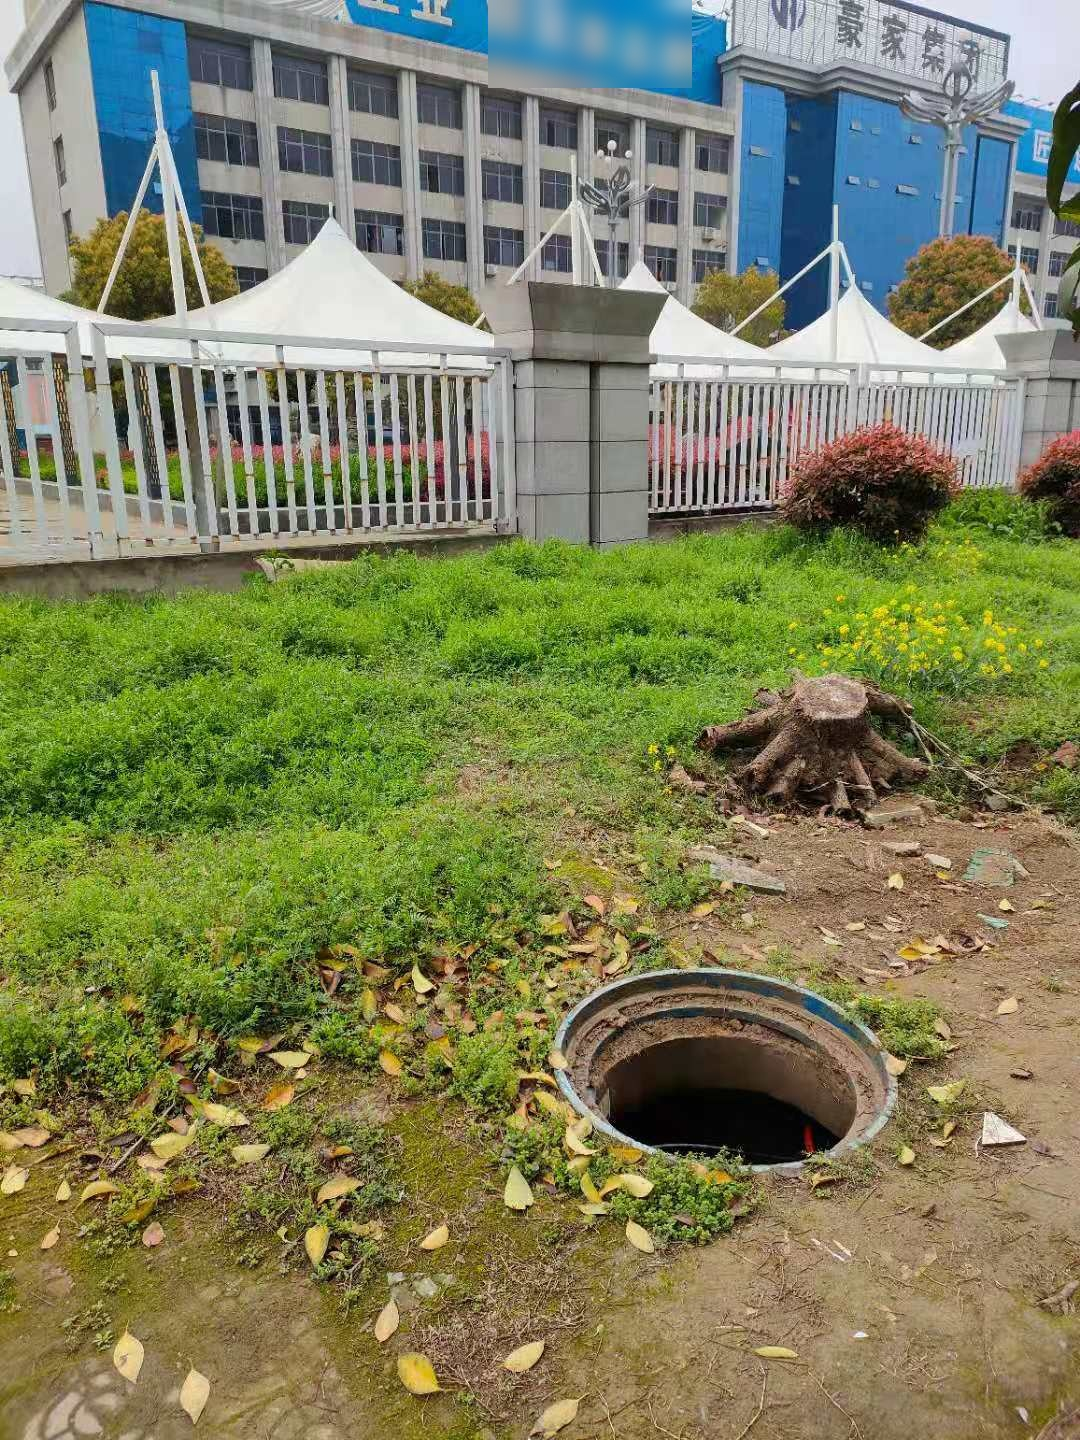lose: (546, 967, 891, 1179)
